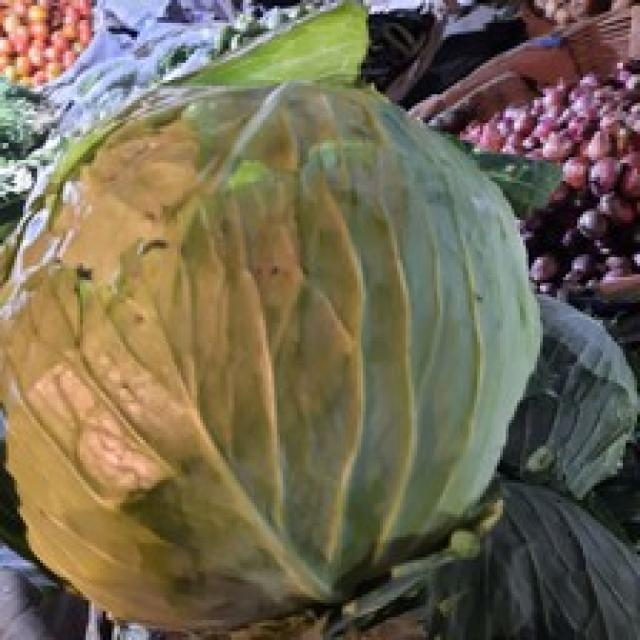Cabbage: (0, 86, 542, 640)
